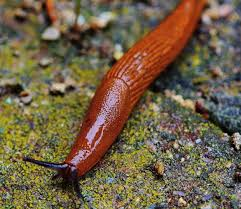slug: (28, 1, 208, 184)
